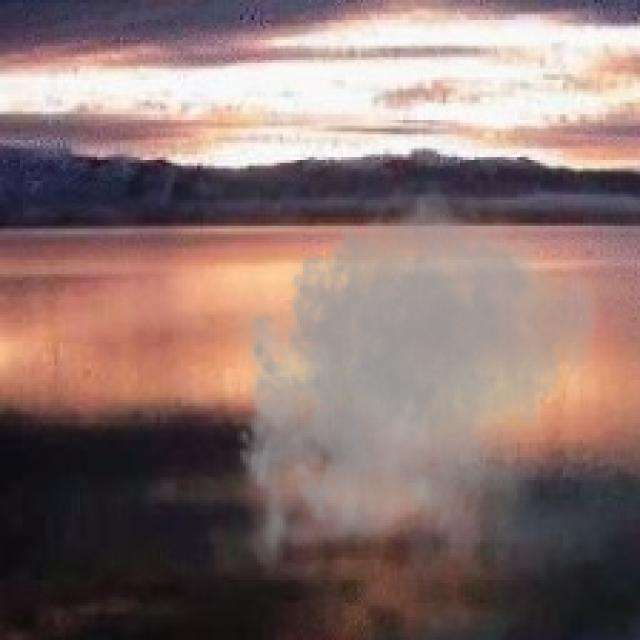Smoke: (220, 177, 609, 583)
